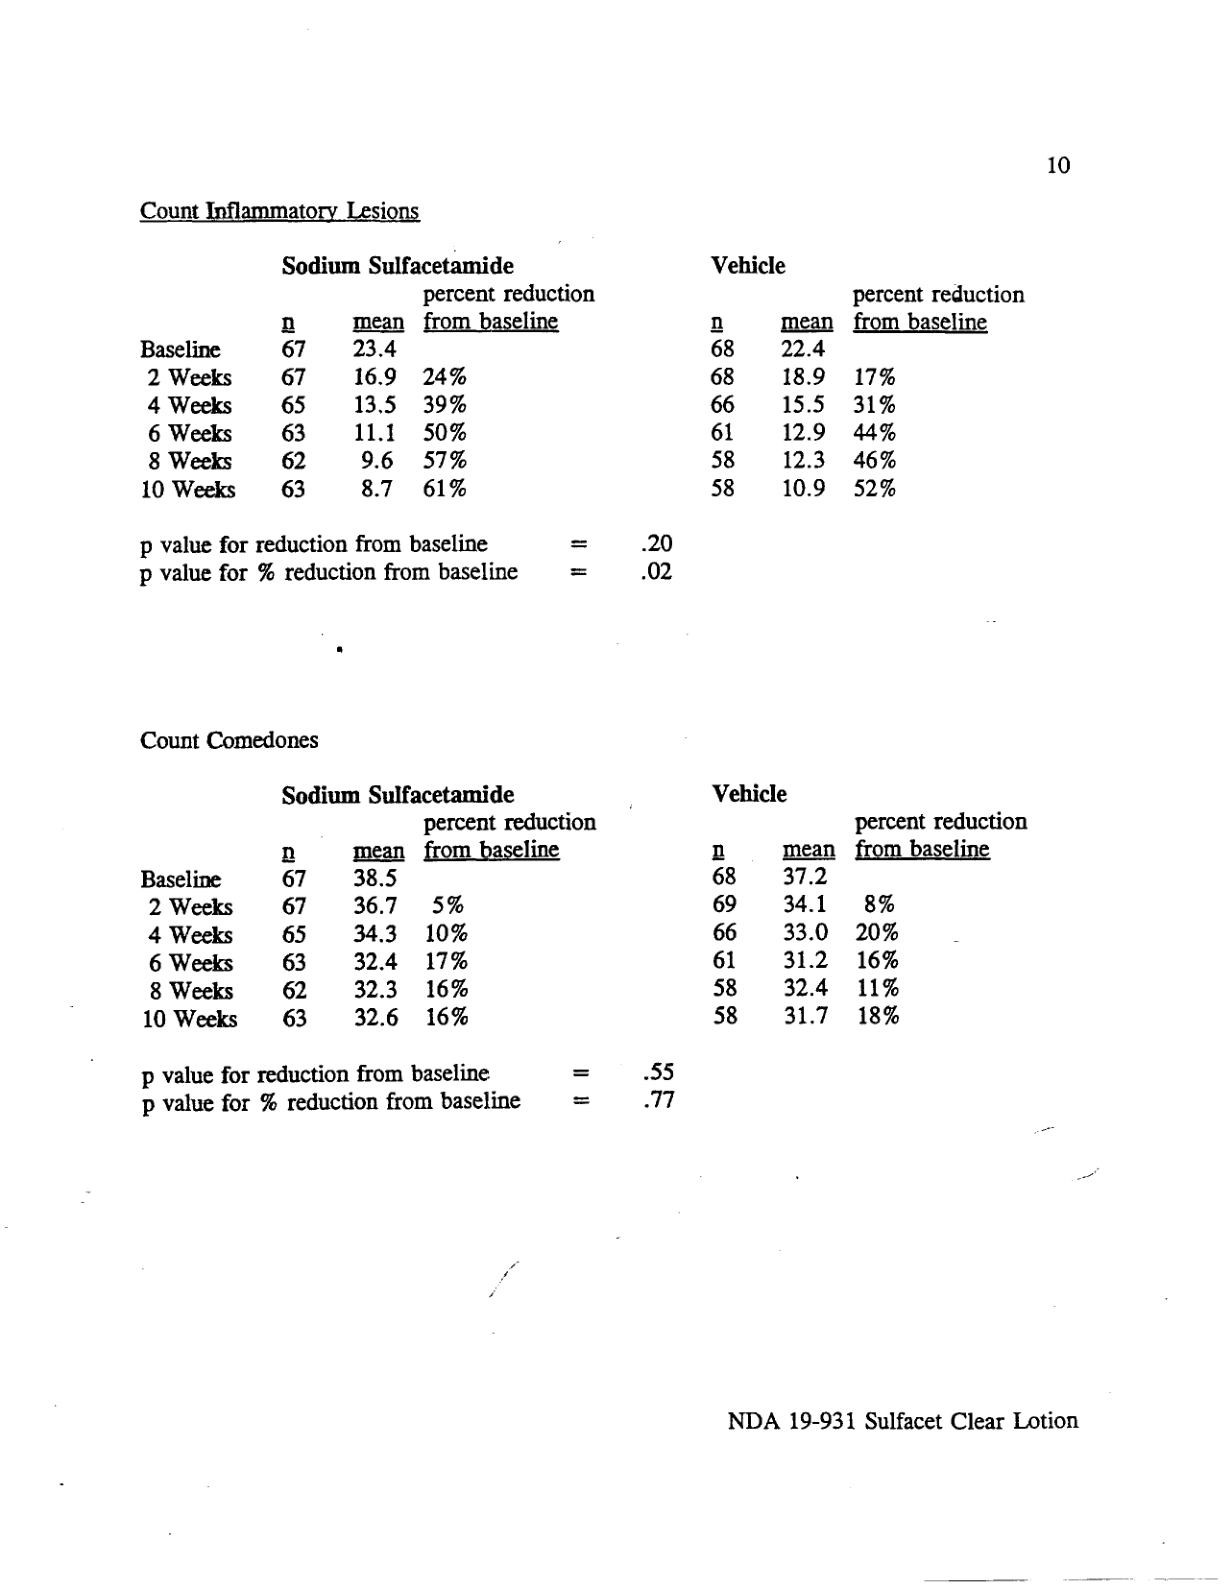nolines: (132, 252, 1032, 503), (138, 783, 1029, 1029)
